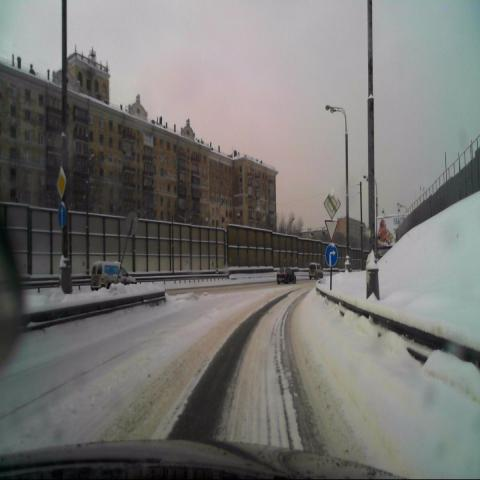2_2: (324, 188, 340, 219)
4_1_2: (325, 243, 338, 267)
